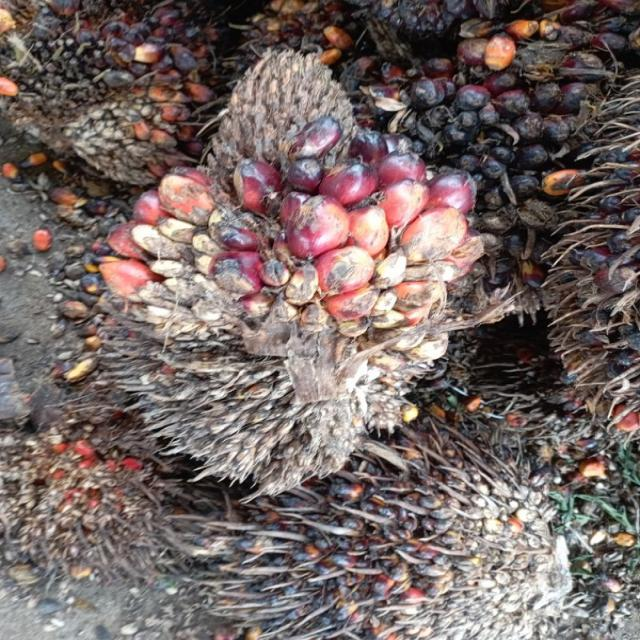fraksi 3: (87, 118, 506, 466)
